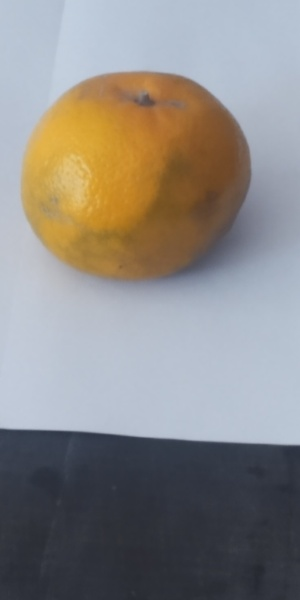BAD: (20, 68, 257, 284)
